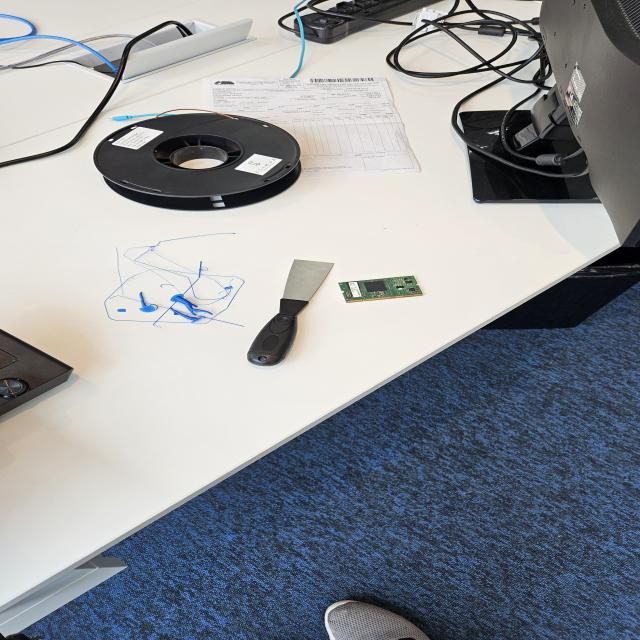som: (338, 272, 427, 306)
